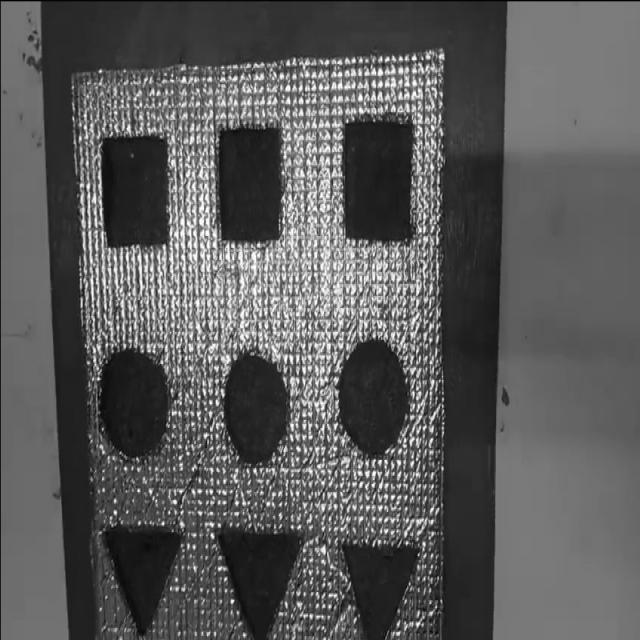mtcircle: (337, 340, 409, 452), (100, 348, 170, 455), (223, 355, 291, 464)
mtcube: (341, 120, 412, 241), (217, 129, 282, 243), (102, 136, 168, 245)
mttriangle: (217, 527, 304, 639), (103, 527, 183, 635), (339, 541, 419, 639)
wb: (73, 48, 443, 639)
